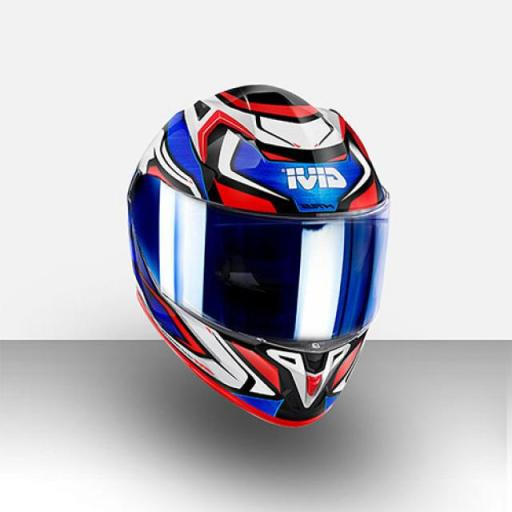Helmet: (114, 54, 432, 456)
